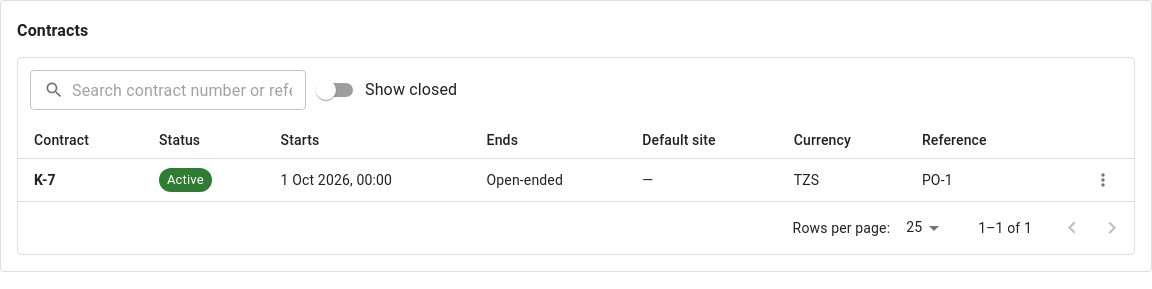
contracts of a customer › hides edit / close without tenant.customer.write
Click the button named "Actions for contract K-7" at [1103, 180], box [1088,165,1118,195]
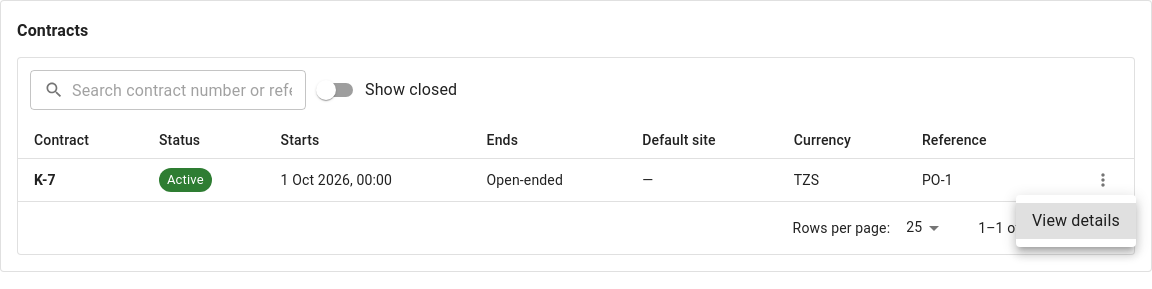
Check: the menu item "View details" is shown, box [1016,203,1136,239]
